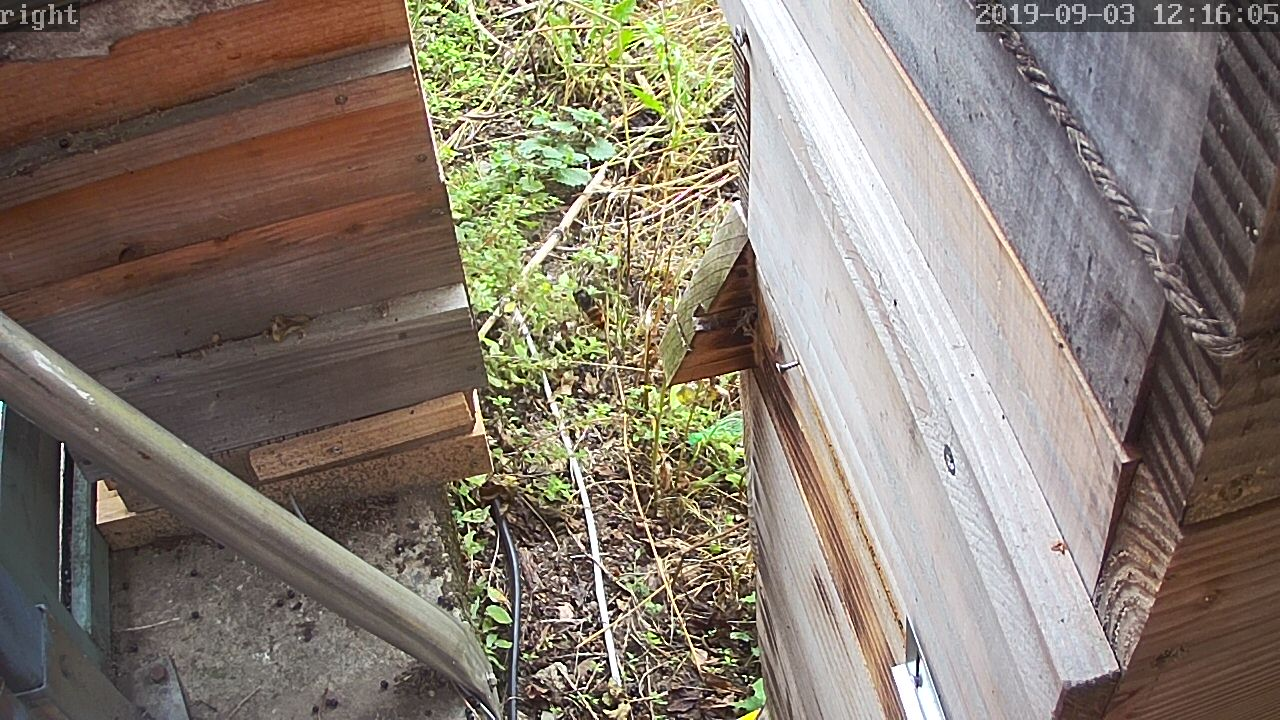hornet: (562, 282, 605, 334)
